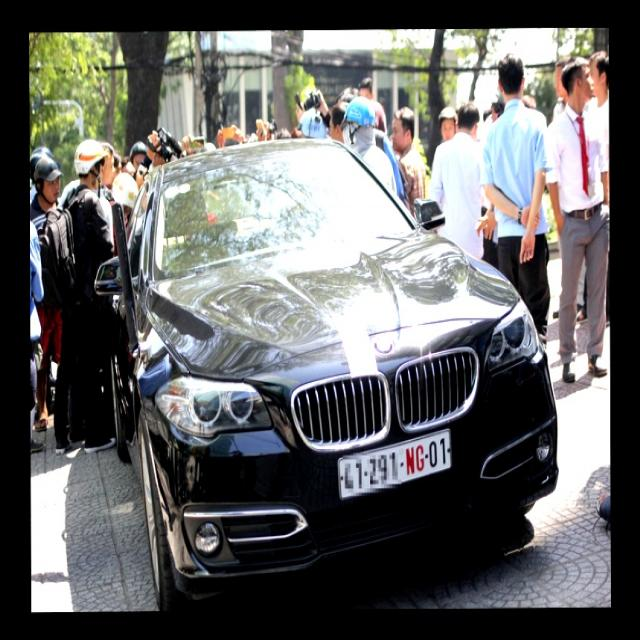bien_ngoai_giao: (337, 427, 455, 499)
